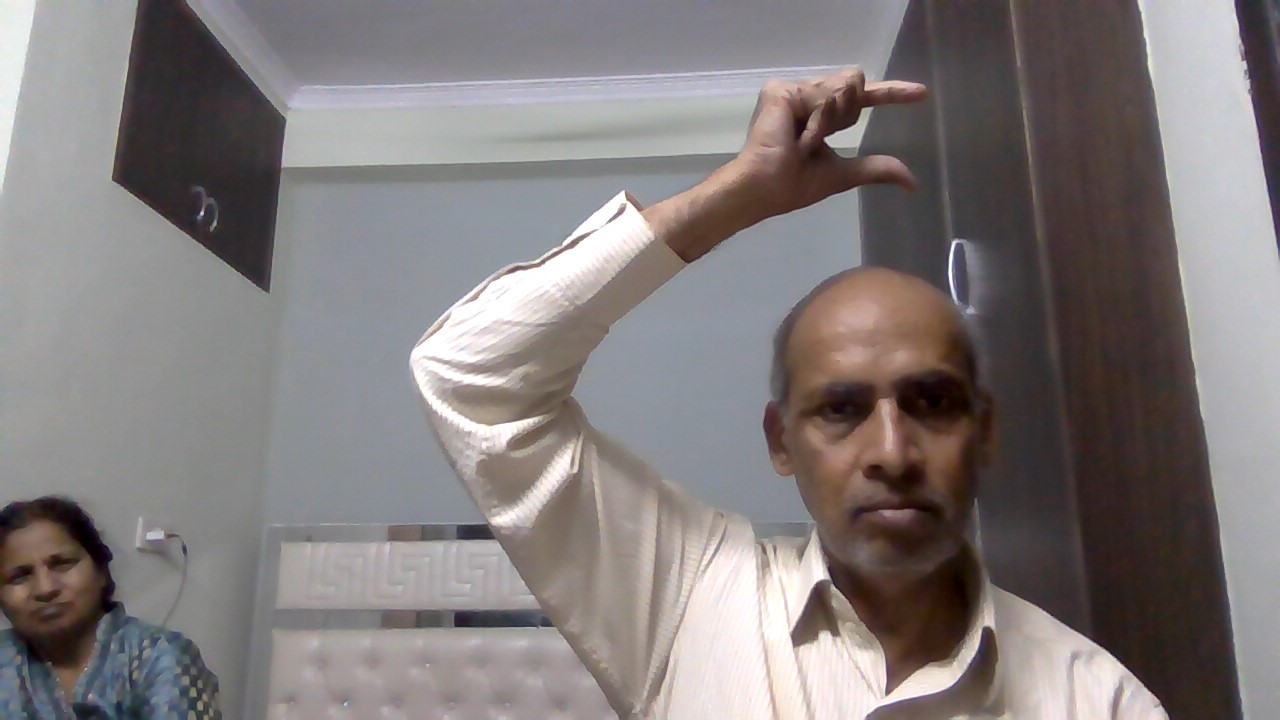Paste: (726, 54, 956, 217)
